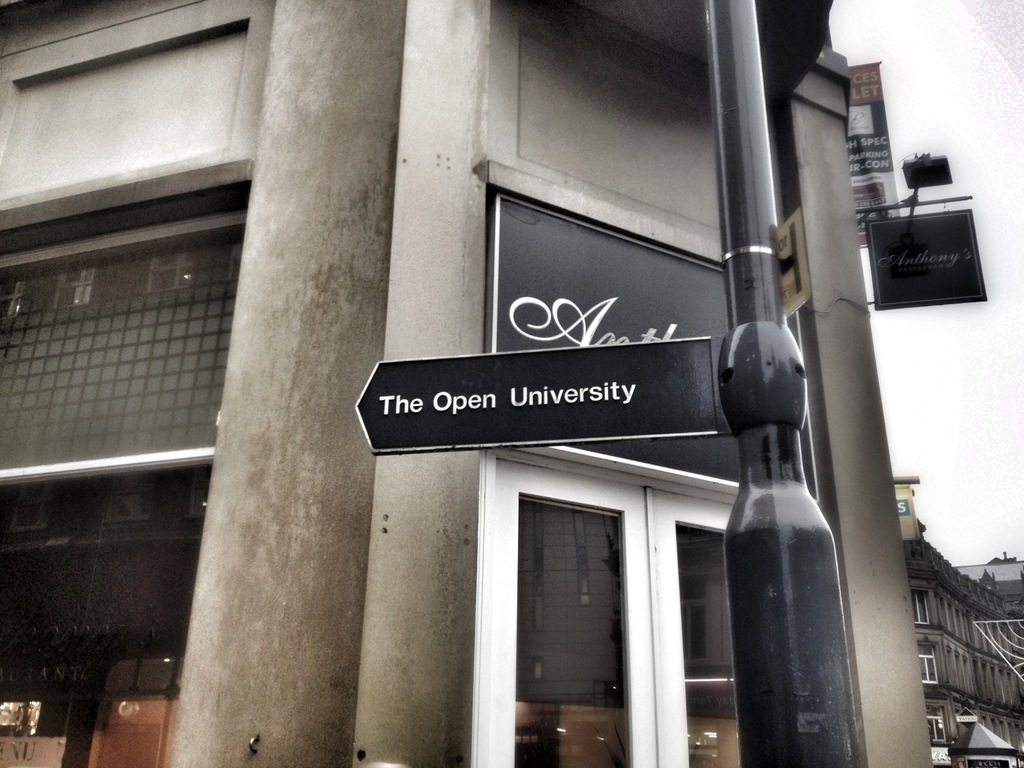door: (500, 466, 643, 768)
